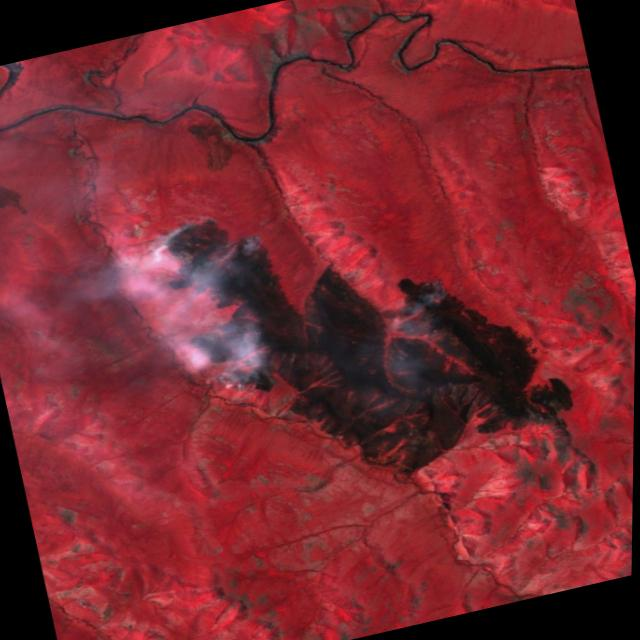fire: (137, 204, 301, 411), (381, 272, 453, 330)
